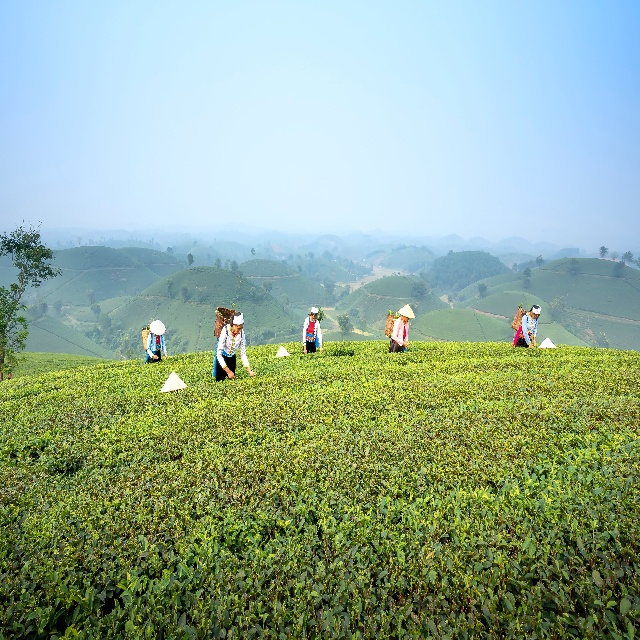Sin_guantes: (227, 368, 236, 380), (402, 341, 409, 348), (250, 369, 256, 377), (153, 353, 160, 359), (303, 347, 307, 355), (529, 342, 533, 349), (533, 339, 536, 347)
